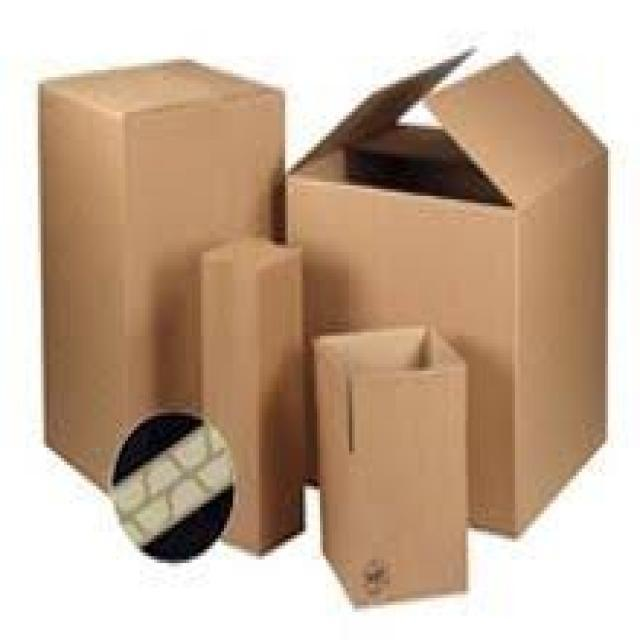Cardboard: (38, 56, 289, 494), (321, 327, 470, 605)
